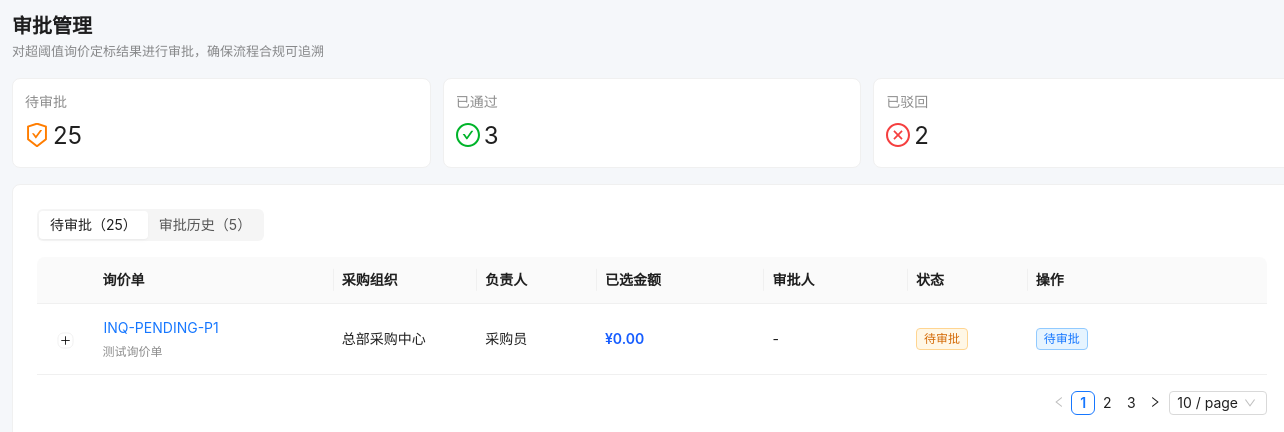
R110 切「审批历史」页签按节点状态筛并回到第 1 页 › 已翻到第 2 页后切历史：下一次列表入参 nodeStatus="APPROVED,REJECTED" 且 page:1
The image size is (1284, 432).
Expected: the text "待审批（25）" is shown, [50, 216, 137, 233]
Click the list item "2": (1107, 403) [1095, 391, 1119, 415]
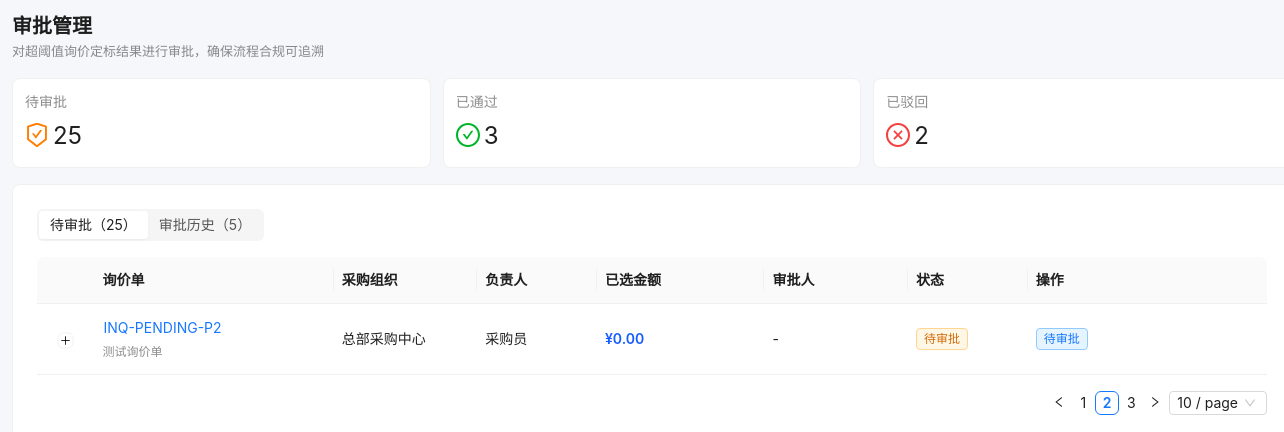
Result: the text "INQ-PENDING-P2" is shown at [103, 319, 222, 336]
Click the radio button "审批历史（5）": (205, 224) [159, 216, 251, 233]
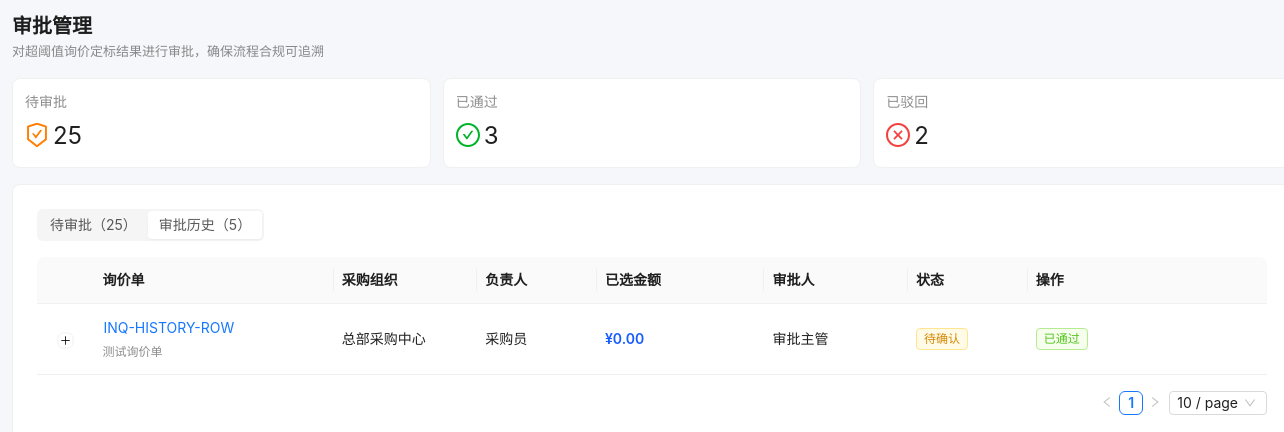
Result: the text "INQ-HISTORY-ROW" is shown at [103, 319, 234, 336]
Result: the button "INQ-PENDING-P2" is gone
